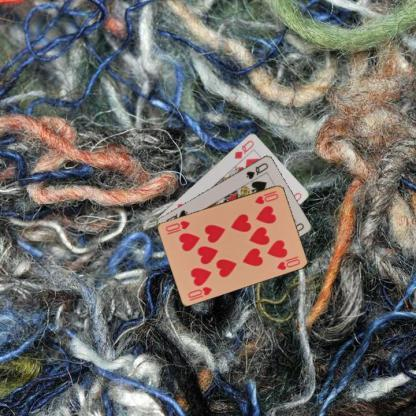10h: (252, 188, 280, 206), (186, 284, 214, 300)
Qd: (232, 138, 255, 160)
Qs: (243, 160, 269, 180)
